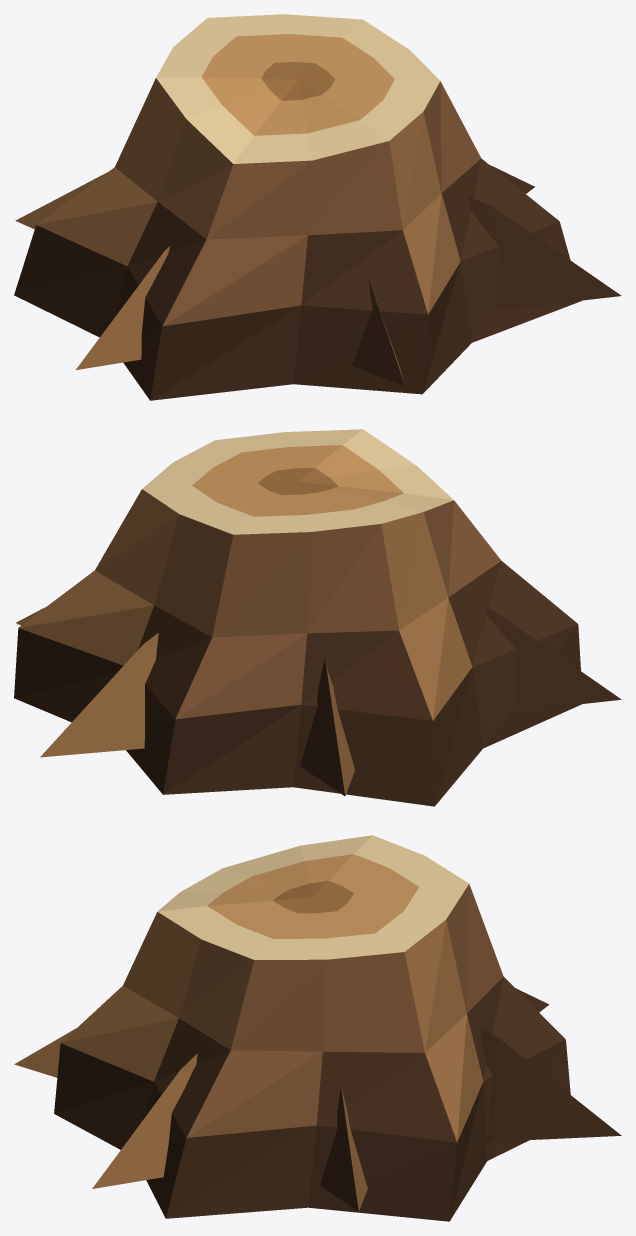
File: stump_fresh_broad.glb
3 views of the same model, one above another, from view 1: azimuth 30°, elevation 25°; view 2: azimuth 150°, elevation 25°; view 3: azimuth 270°, elevation 25° (orthographic).
Visible parts, largest first — view 1: stump_fresh_broad; view 2: stump_fresh_broad; view 3: stump_fresh_broad.
Boxes of the visible parts, x1=… form: stump_fresh_broad: x1=14, y1=14, x2=621, y2=400; stump_fresh_broad: x1=14, y1=429, x2=621, y2=806; stump_fresh_broad: x1=14, y1=835, x2=621, y2=1221.
Size of the model in its own units: 1.78 by 0.7255 by 1.76.
